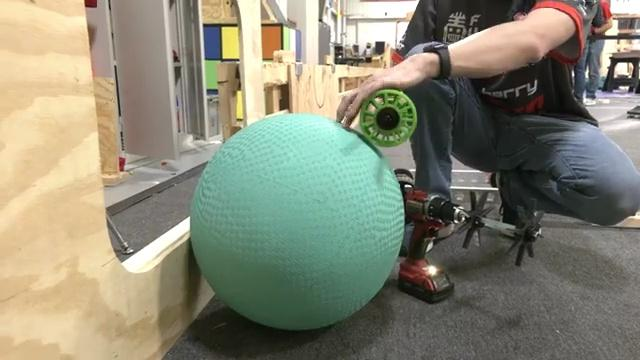ALGAE: (188, 111, 406, 331)
